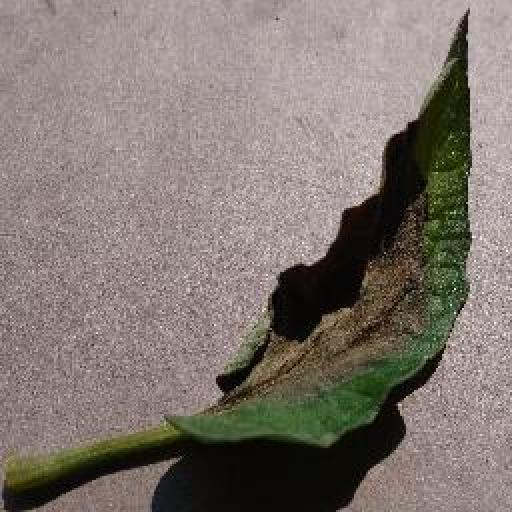Late Blight: (166, 12, 474, 449)
